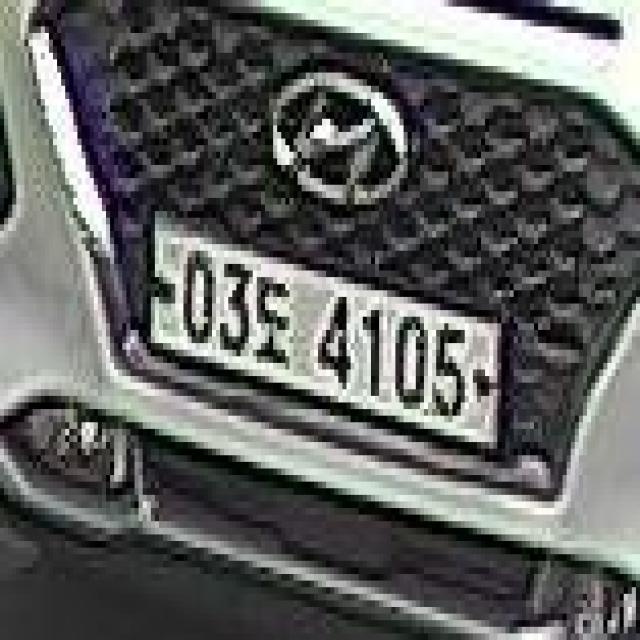illegal_plate: (144, 211, 506, 471)
